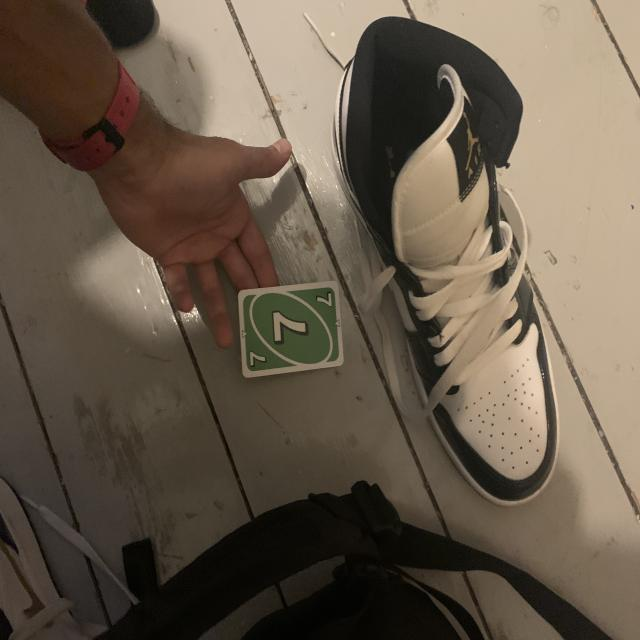lgreen-7: (311, 288, 335, 311)
